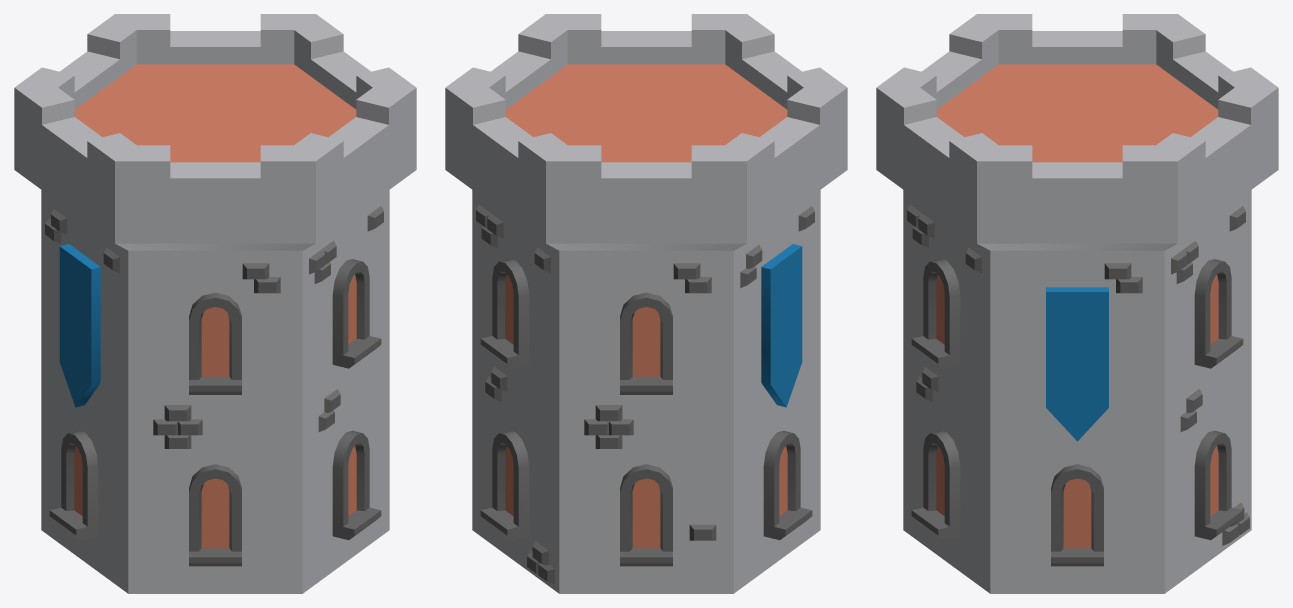
File: Tower_Shaft.fbx
The picture shows the model from 3 angles, left to right: view 1: azimuth 30°, elevation 25°; view 2: azimuth 150°, elevation 25°; view 3: azimuth 270°, elevation 25°; orthographic projection.
Visible parts, largest first — view 1: Tower_Shaft; view 2: Tower_Shaft; view 3: Tower_Shaft.
Part boxes in pixels (box(x1,y1,x2,y2)): Tower_Shaft: box(14, 14, 416, 593); Tower_Shaft: box(445, 14, 847, 593); Tower_Shaft: box(876, 14, 1278, 593).
Bounding box in the file's own units: 0.9298 × 1.29 × 1.06.
Materials: 1 (1 with a texture image).
